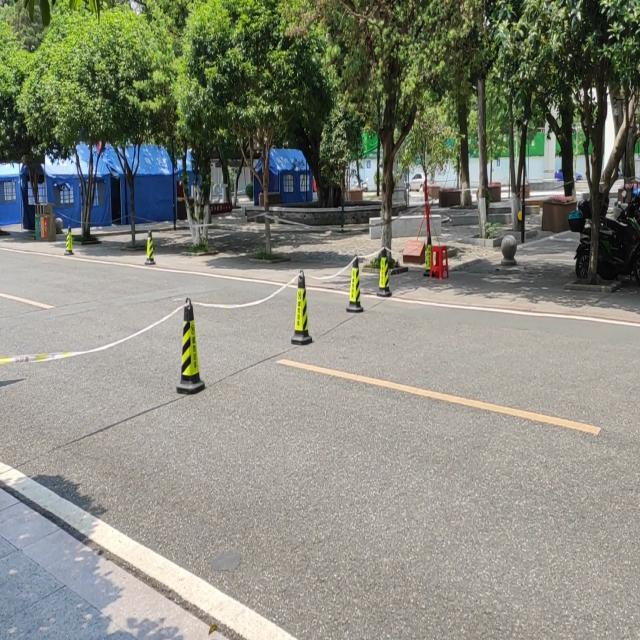ash bin: (33, 200, 57, 241)
motorbike: (567, 198, 627, 280)
reflective_cone: (171, 294, 208, 395), (289, 268, 314, 344), (345, 254, 365, 314), (374, 244, 392, 298), (423, 235, 435, 276), (144, 228, 156, 264), (64, 223, 74, 254)
spherical_roadblock: (500, 233, 517, 265)
